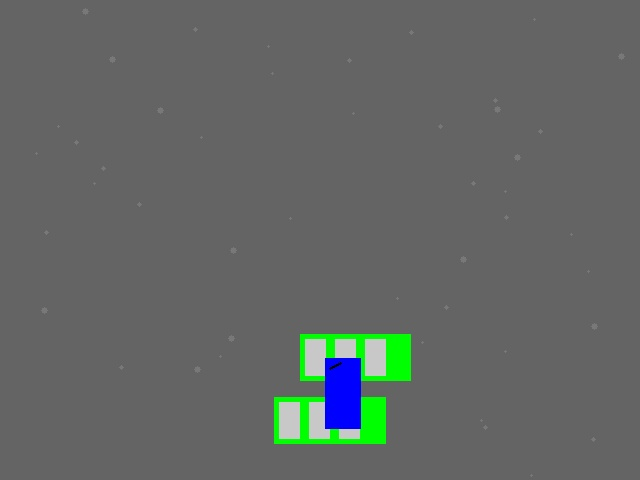bus: (274, 397, 385, 443), (300, 334, 410, 380)
motorcycle: (325, 358, 360, 428)
